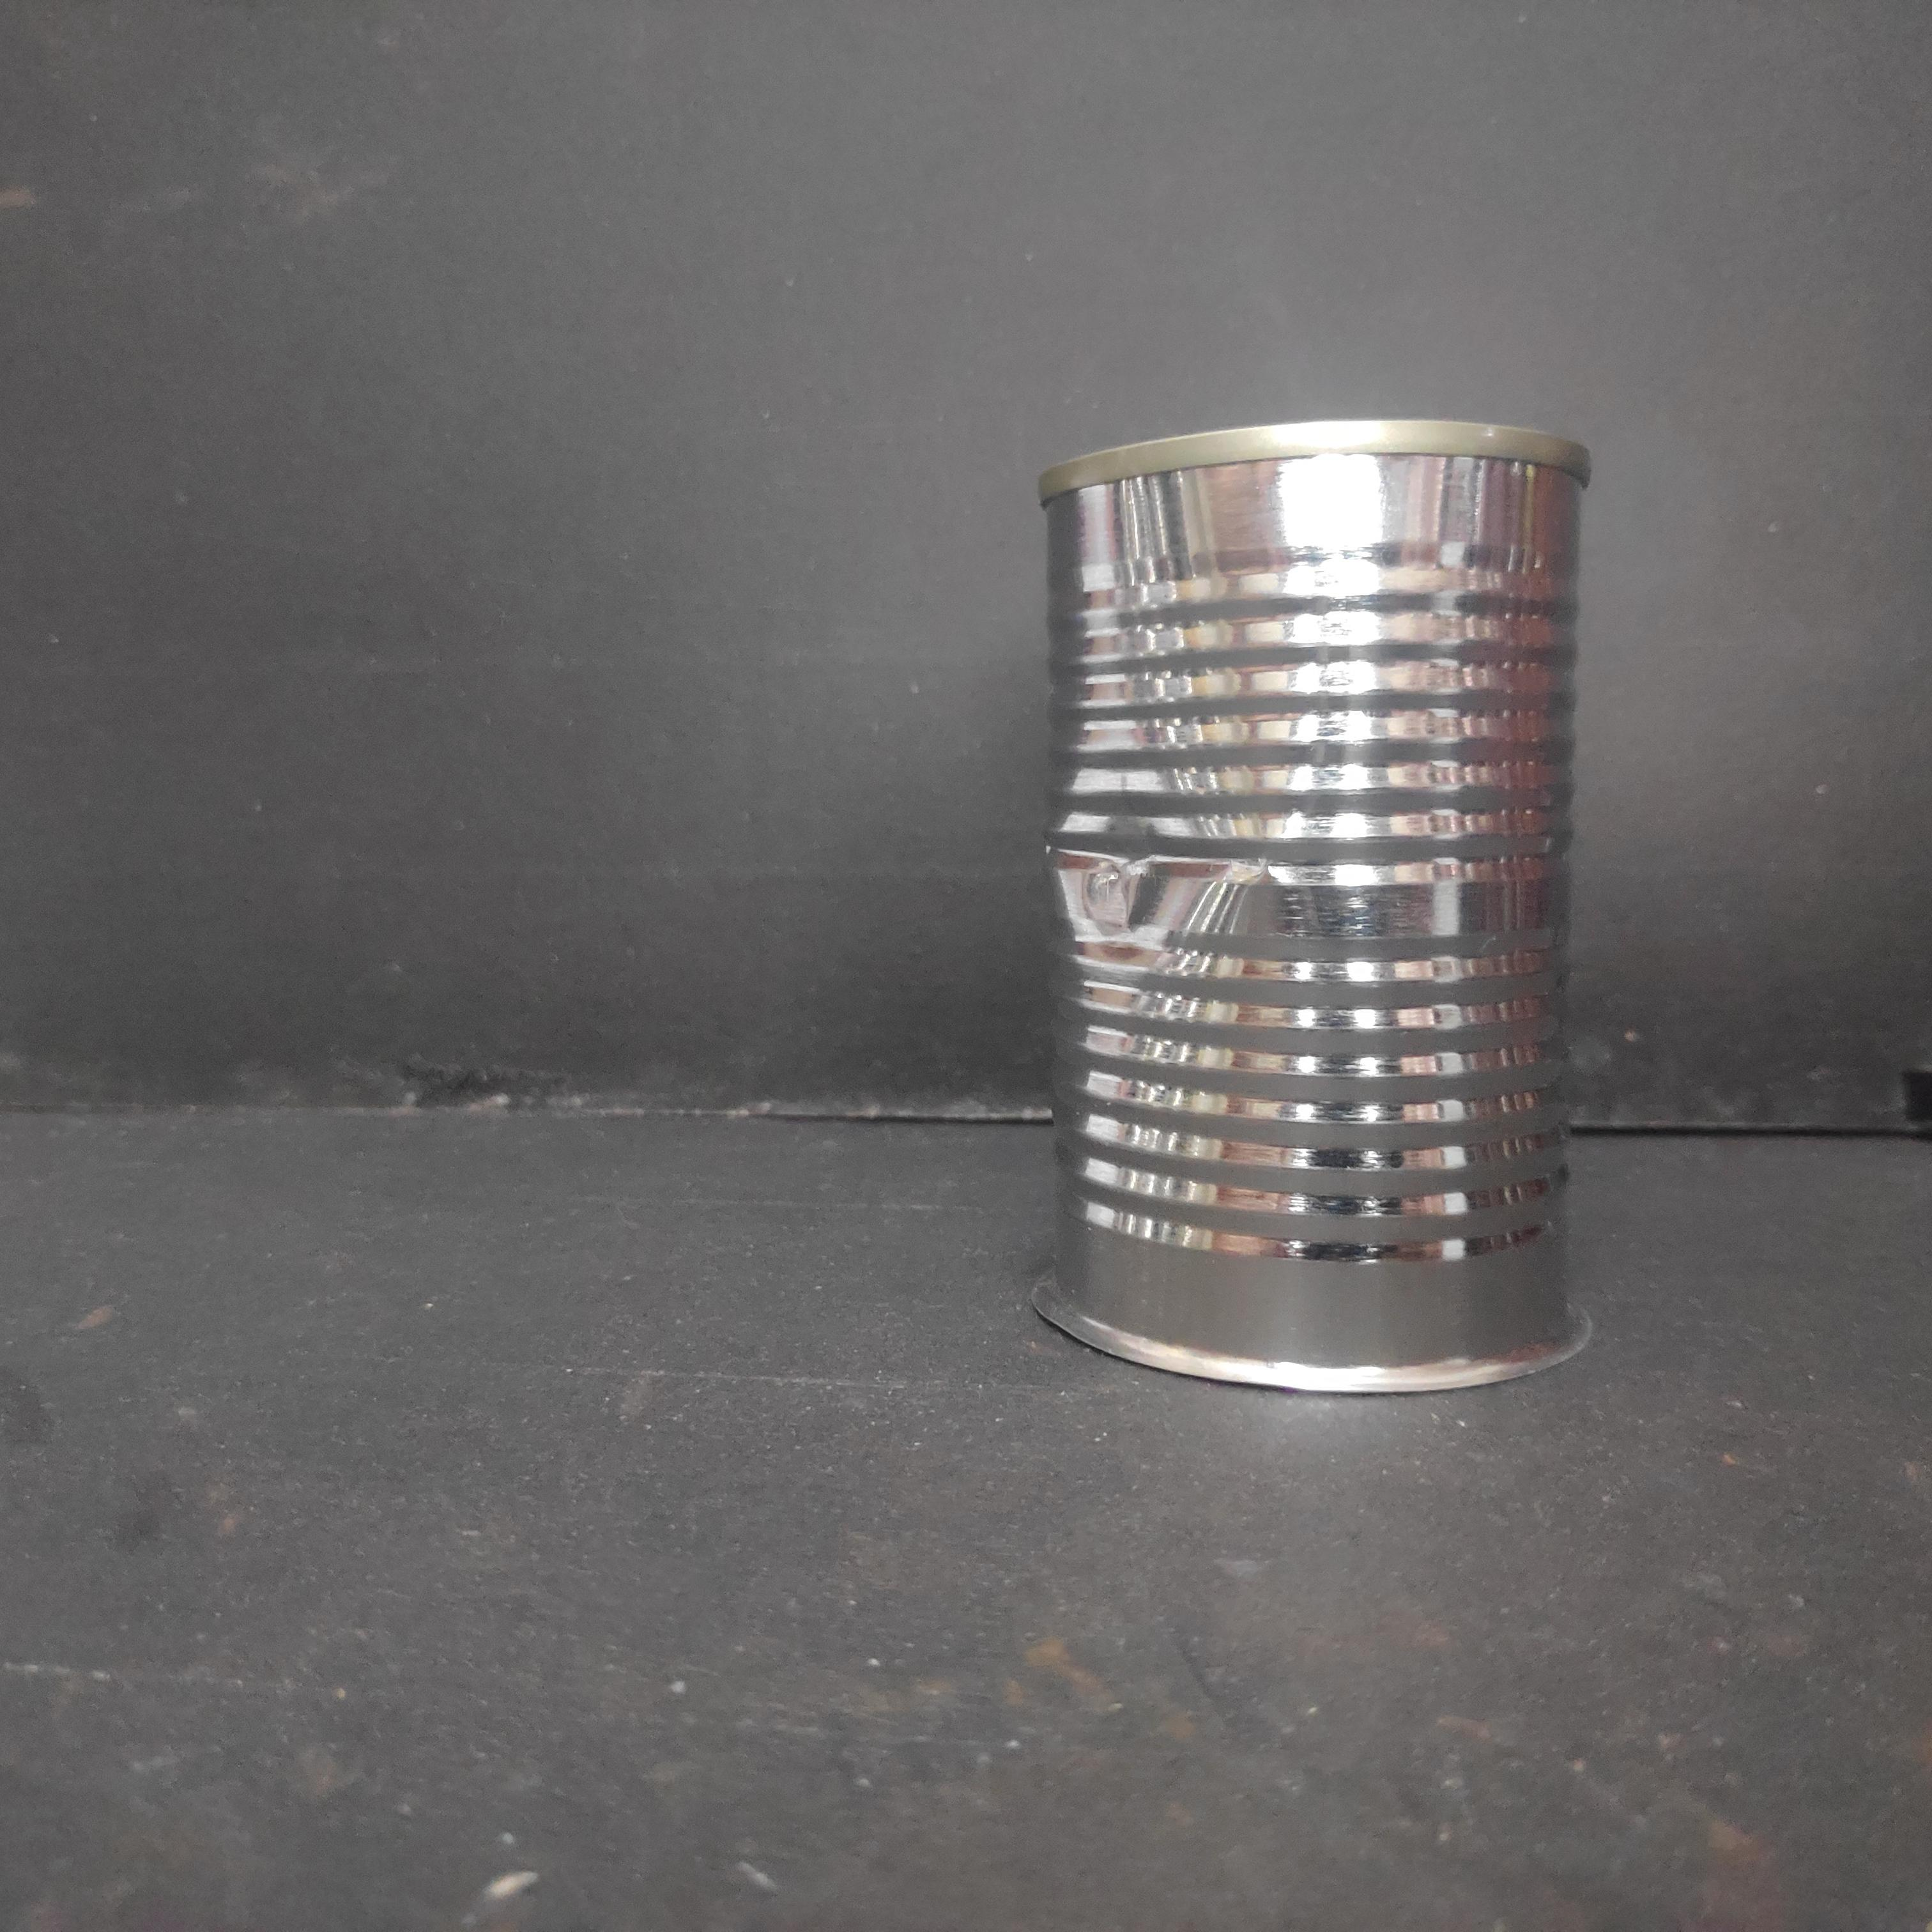Minor Defect: (1026, 407, 1594, 1412)
